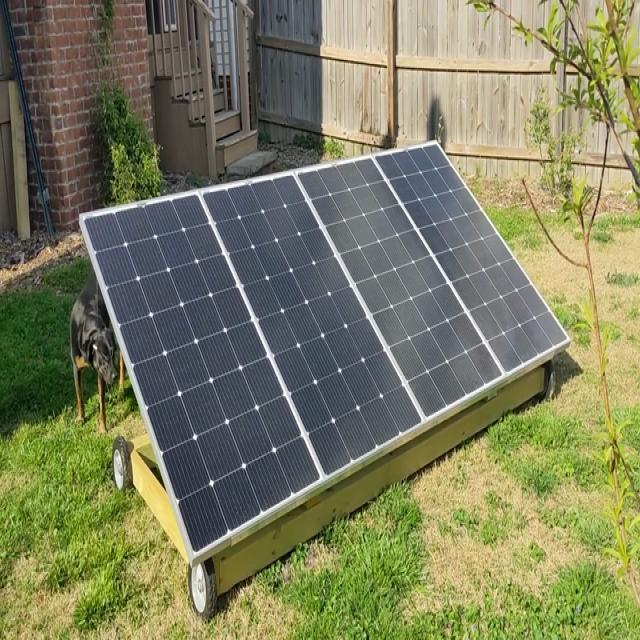Normal Solar Panel: (82, 142, 570, 562)
